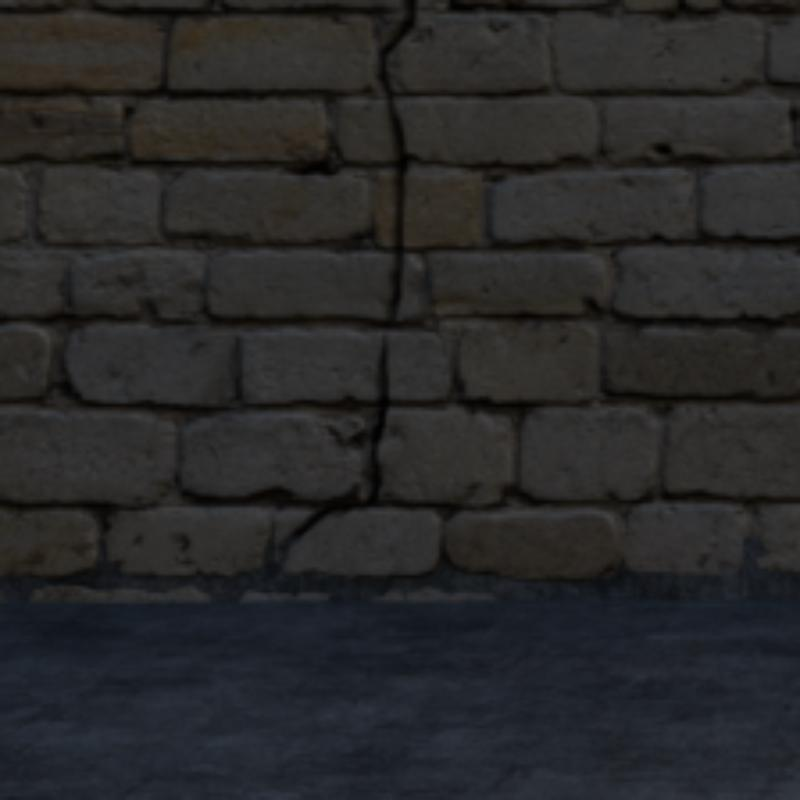pothole: (275, 0, 414, 568)
